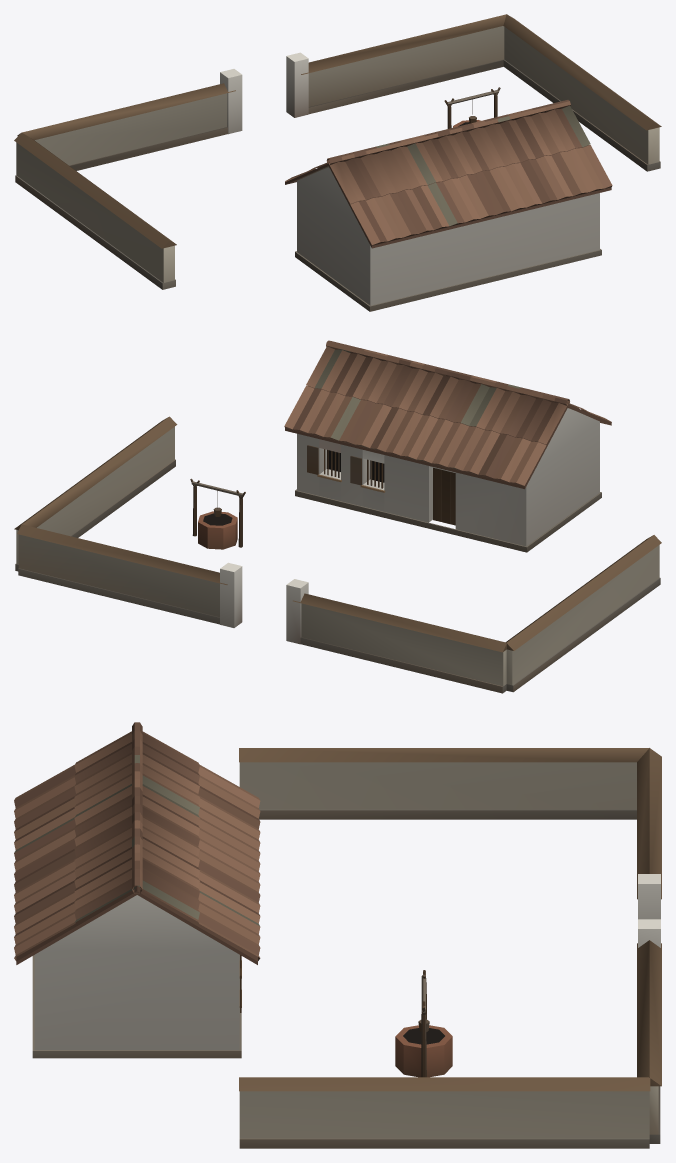
The model's file is casa_quinta_b_lod.glb.
3 views of the same model, one above another, from view 1: azimuth 30°, elevation 25°; view 2: azimuth 150°, elevation 25°; view 3: azimuth 270°, elevation 25° (orthographic). The views are drawn at different scales.
Visible parts, largest first — view 1: casa_quinta_b; view 2: casa_quinta_b; view 3: casa_quinta_b.
Part boxes in pixels (<box>): casa_quinta_b: <box>14,14,661,311</box>; casa_quinta_b: <box>14,340,661,693</box>; casa_quinta_b: <box>14,722,661,1148</box>.
Size of the model in its own units: 19.61 by 4.73 by 15.81.
